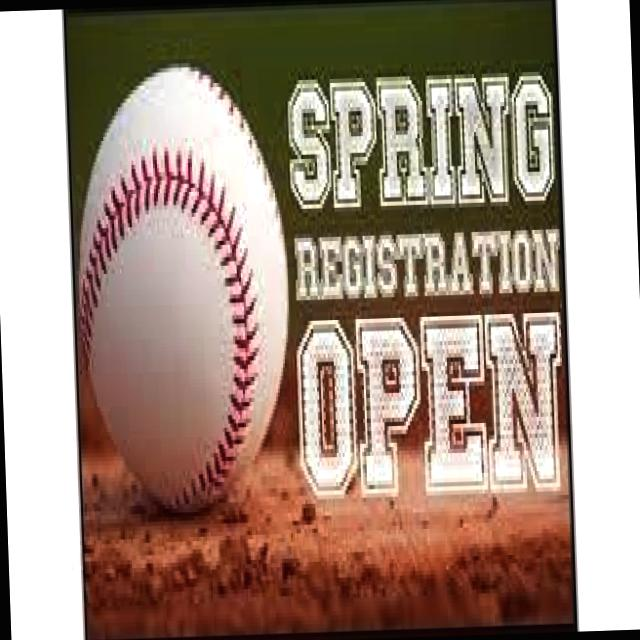ball: (75, 65, 298, 518)
